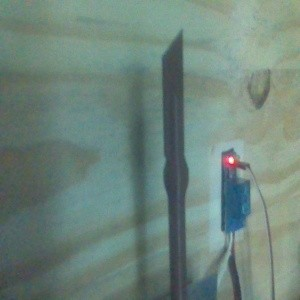cutter: (160, 26, 190, 300)
